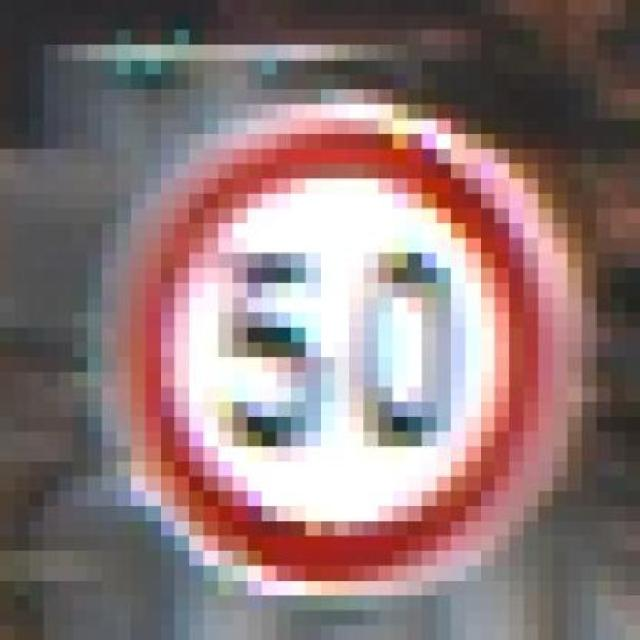forb_speed_over_50: (126, 113, 549, 590)
